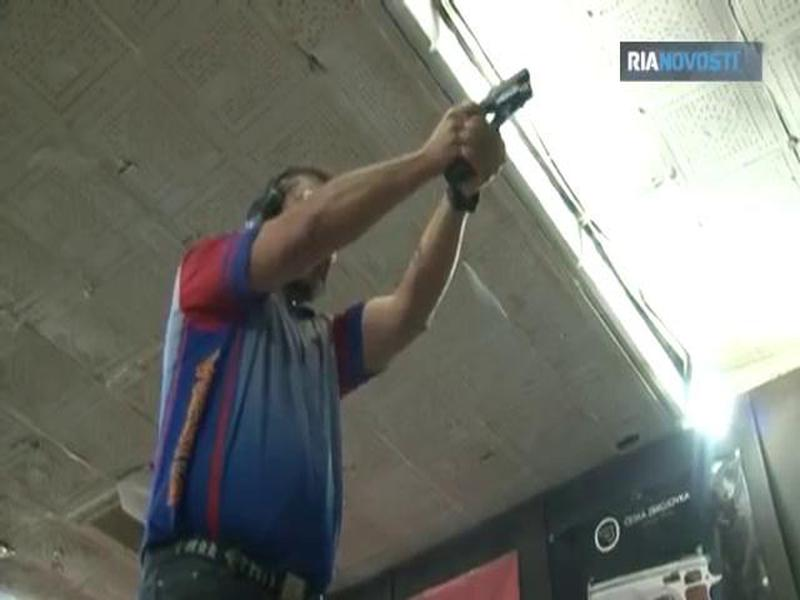Pistola: (420, 59, 551, 224)
